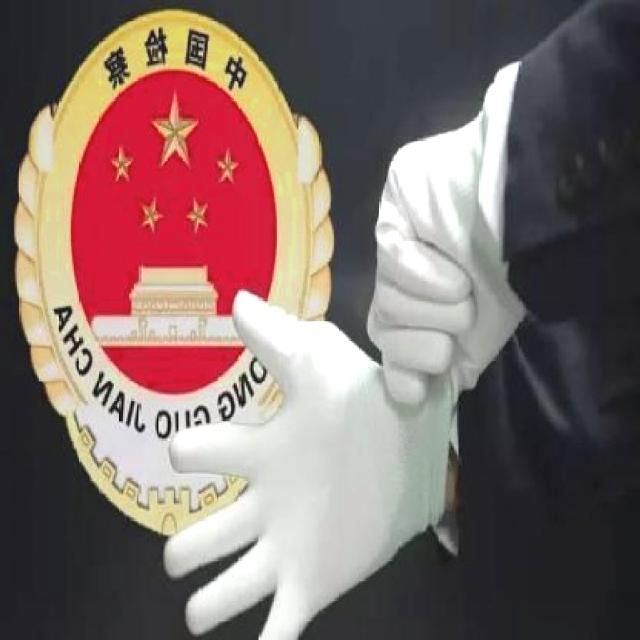hand_glove: (167, 280, 441, 638), (366, 90, 506, 425)
